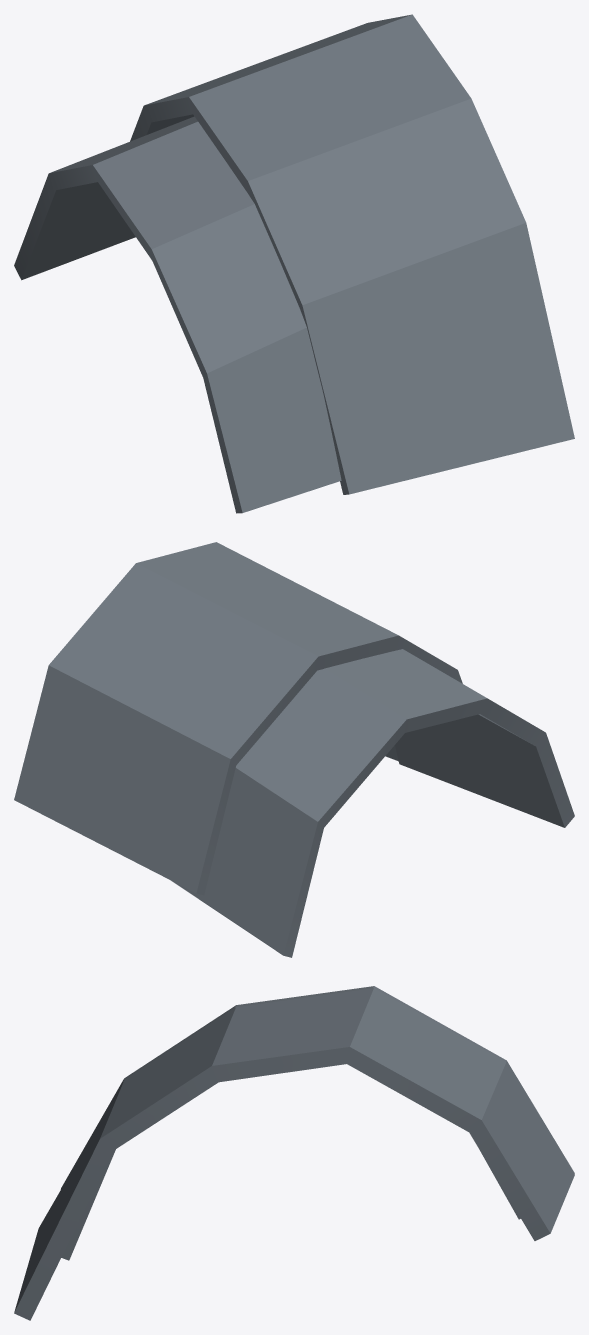
File: SM_roman_shoulder_r.fbx
The picture shows the model from 3 angles, top to bottom: view 1: azimuth 30°, elevation 25°; view 2: azimuth 150°, elevation 25°; view 3: azimuth 270°, elevation 25°; orthographic projection. The views are drawn at different scales.
Visible parts, largest first — view 1: roman_shoulder_r; view 2: roman_shoulder_r; view 3: roman_shoulder_r.
Part boxes in pixels (x1=…): roman_shoulder_r: x1=14, y1=14, x2=574, y2=513; roman_shoulder_r: x1=14, y1=542, x2=574, y2=957; roman_shoulder_r: x1=14, y1=986, x2=574, y2=1320.
Bounding box in the file's own units: 19.24 × 16.49 × 28.22.
